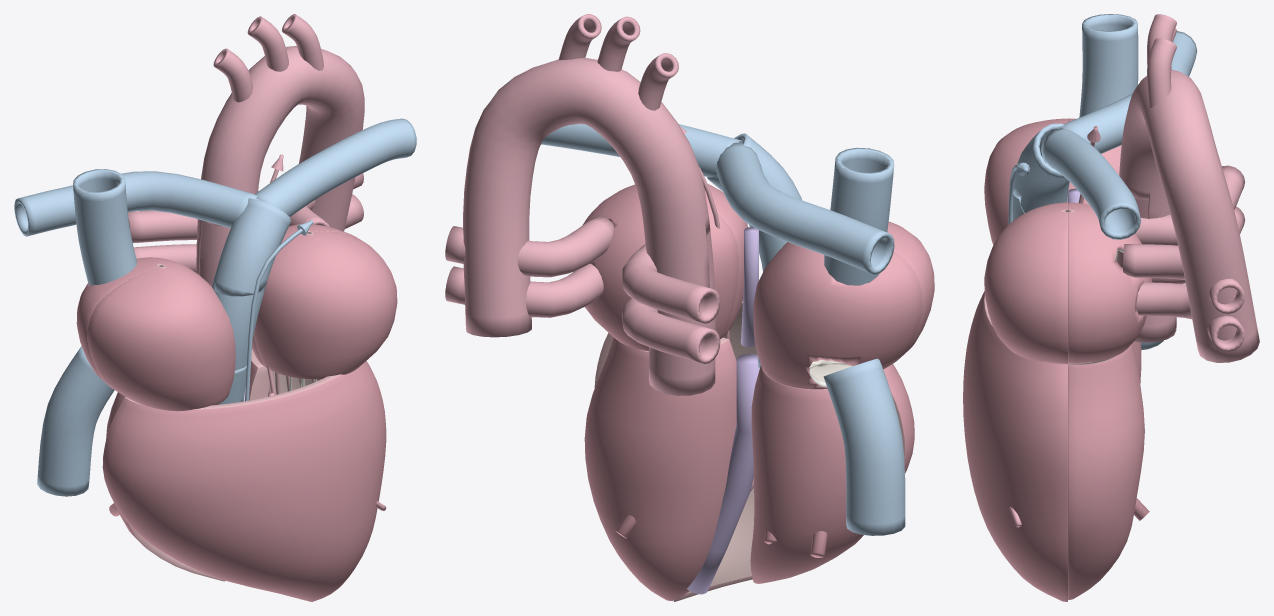
The model's file is heart_pump_lab.glb.
3 renders of one model, left to right at view 1: azimuth 30°, elevation 25°; view 2: azimuth 150°, elevation 25°; view 3: azimuth 270°, elevation 25°, orthographic. The views are drawn at different scales.
Visible parts, largest first — view 1: Cover_VentricularMantle, Vessels_OxygenPoor, Vessels_OxygenRich, Cover_R_Atrium, Cover_L_Atrium, Wall_R_Atrium, Cover_Vessel_PulmonaryTrunk, Cover_Vessel_Aorta, Wall_L_Ventricle, Arrow_RV_to_lungs, Wall_R_Ventricle; view 2: Vessels_OxygenRich, Vessels_OxygenPoor, Wall_L_Ventricle, Wall_R_Atrium, Wall_R_Ventricle, Wall_L_Atrium, Septum_Interventricular, Cover_VentricularMantle, Cover_R_Atrium, Septum_Interatrial, Cover_L_Atrium; view 3: Vessels_OxygenRich, Cover_VentricularMantle, Vessels_OxygenPoor, Wall_L_Ventricle, Cover_L_Atrium, Wall_L_Atrium, Cover_R_Atrium, Wall_R_Atrium.
Part boxes in pixels (x1,y1,x2,y2): Cover_VentricularMantle: (102,361,386,601); Vessels_OxygenPoor: (14,118,416,496); Vessels_OxygenRich: (128,14,364,274); Cover_R_Atrium: (87,265,235,411); Cover_L_Atrium: (253,231,397,379); Wall_R_Atrium: (76,257,189,385); Cover_Vessel_PulmonaryTrunk: (214,289,263,370); Cover_Vessel_Aorta: (199,221,230,286); Wall_L_Ventricle: (249,349,318,400); Arrow_RV_to_lungs: (244,220,313,401); Wall_R_Ventricle: (106,392,225,581); Vessels_OxygenRich: (445,14,720,395); Vessels_OxygenPoor: (541,124,905,535); Wall_L_Ventricle: (584,337,736,600); Wall_R_Atrium: (753,242,922,389); Wall_R_Ventricle: (750,365,863,583); Wall_L_Atrium: (573,187,738,351); Septum_Interventricular: (687,353,759,594); Cover_VentricularMantle: (594,301,914,601); Cover_R_Atrium: (887,221,934,360); Septum_Interatrial: (741,227,758,347); Cover_L_Atrium: (615,184,747,336); Vessels_OxygenRich: (1119,14,1259,362); Cover_VentricularMantle: (963,291,1067,601); Vessels_OxygenPoor: (1013,14,1197,350); Wall_L_Ventricle: (1068,343,1144,599); Cover_L_Atrium: (984,202,1067,364); Wall_L_Atrium: (1068,202,1151,364); Cover_R_Atrium: (984,118,1067,244); Wall_R_Atrium: (1068,118,1121,204).
Bounding box in the file's own units: 0.1271 × 0.1846 × 0.085.
